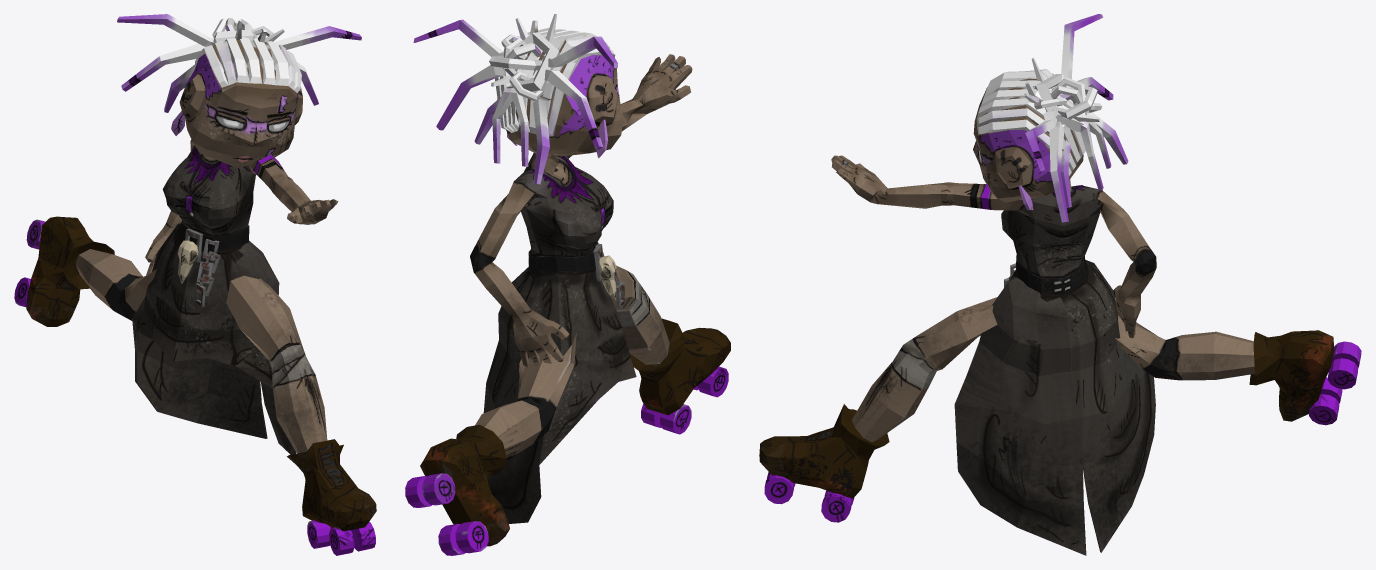
File: bruja_000028.obj
3 renders of one model, left to right at view 1: azimuth 30°, elevation 25°; view 2: azimuth 150°, elevation 25°; view 3: azimuth 270°, elevation 25°, orthographic. The views are drawn at different scales.
Parts seen in each view (by area): view 1: Bruja_Plane.001; view 2: Bruja_Plane.001; view 3: Bruja_Plane.001.
Part boxes in pixels (bbox=[...]): Bruja_Plane.001: bbox=[14, 14, 376, 555]; Bruja_Plane.001: bbox=[405, 14, 730, 555]; Bruja_Plane.001: bbox=[759, 14, 1361, 555].
Bounding box in the file's own units: 7.13 × 14.61 × 16.92.
